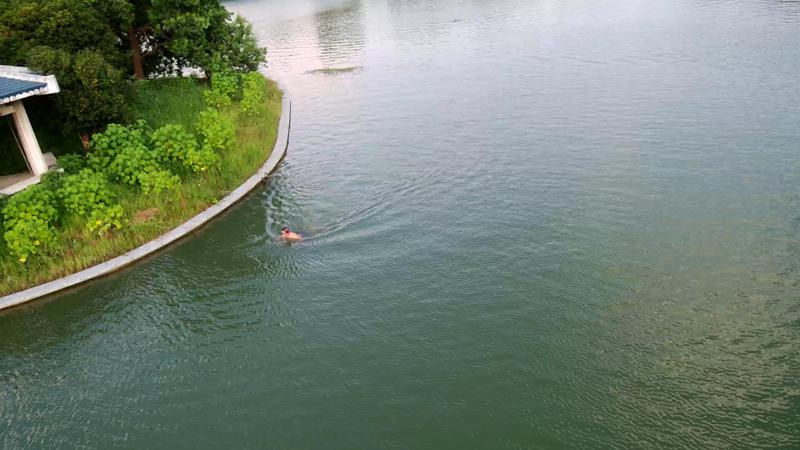swimmers: (279, 226, 308, 242)
